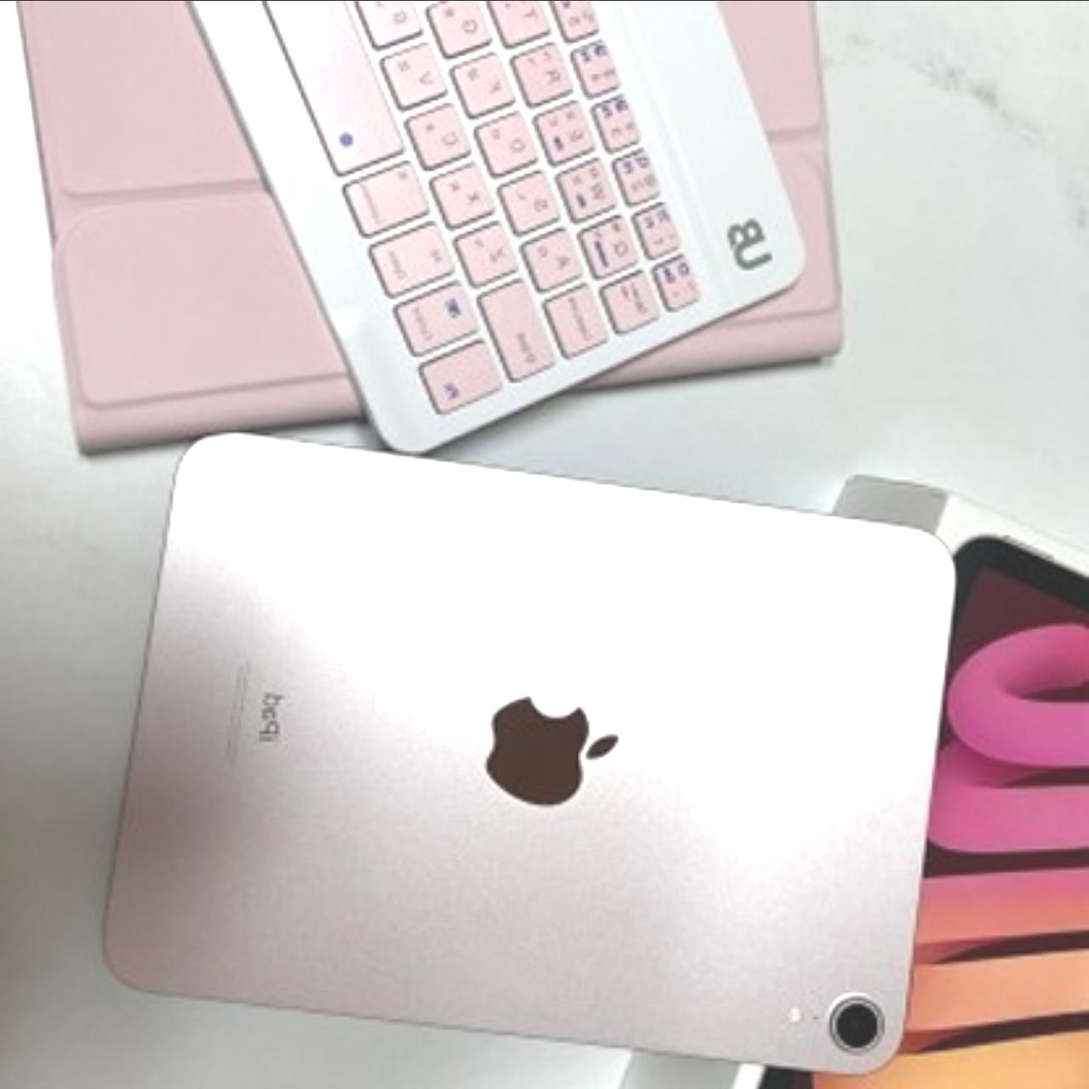Tablet_PC: (110, 413, 966, 1075)
